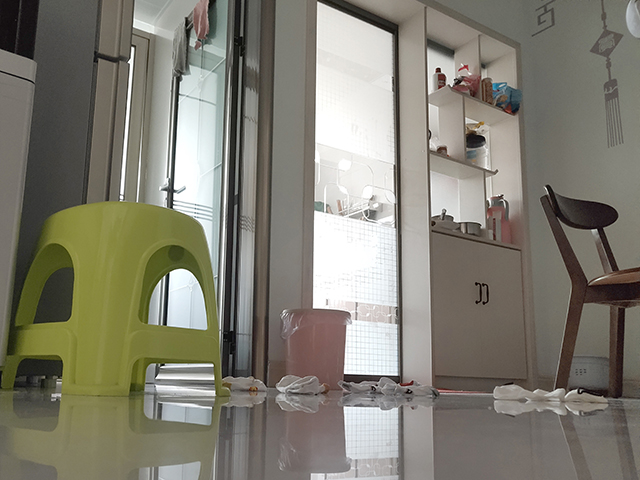cabinet: (405, 232, 537, 390)
socks: (491, 379, 609, 403), (335, 375, 442, 398), (219, 373, 332, 394)
stool: (1, 199, 223, 399), (538, 183, 640, 401)
trashcan: (276, 307, 354, 392)
